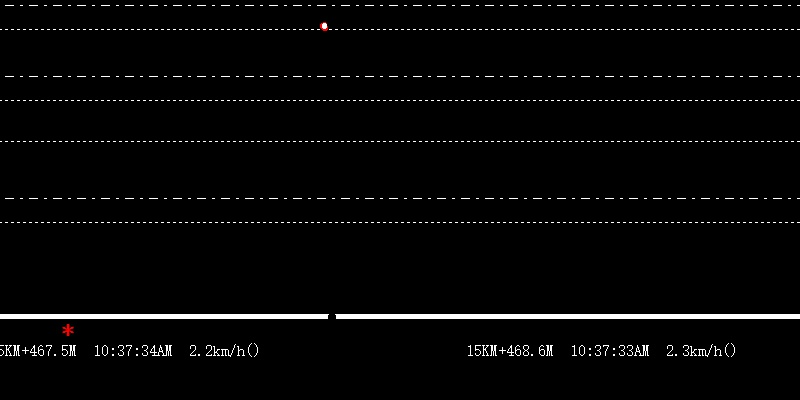face_2: (318, 19, 328, 31)
star: (60, 321, 75, 337)
